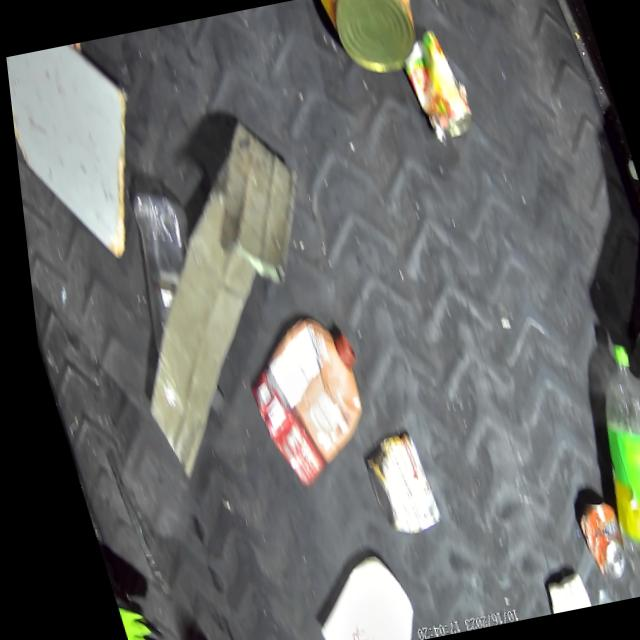can: (313, 0, 436, 81), (347, 431, 432, 538), (401, 44, 482, 148), (561, 506, 627, 584)
milk_jug: (290, 541, 405, 640)
non_white_jug: (225, 312, 390, 498)
plastic_bottle: (558, 346, 640, 578), (110, 188, 189, 315)
